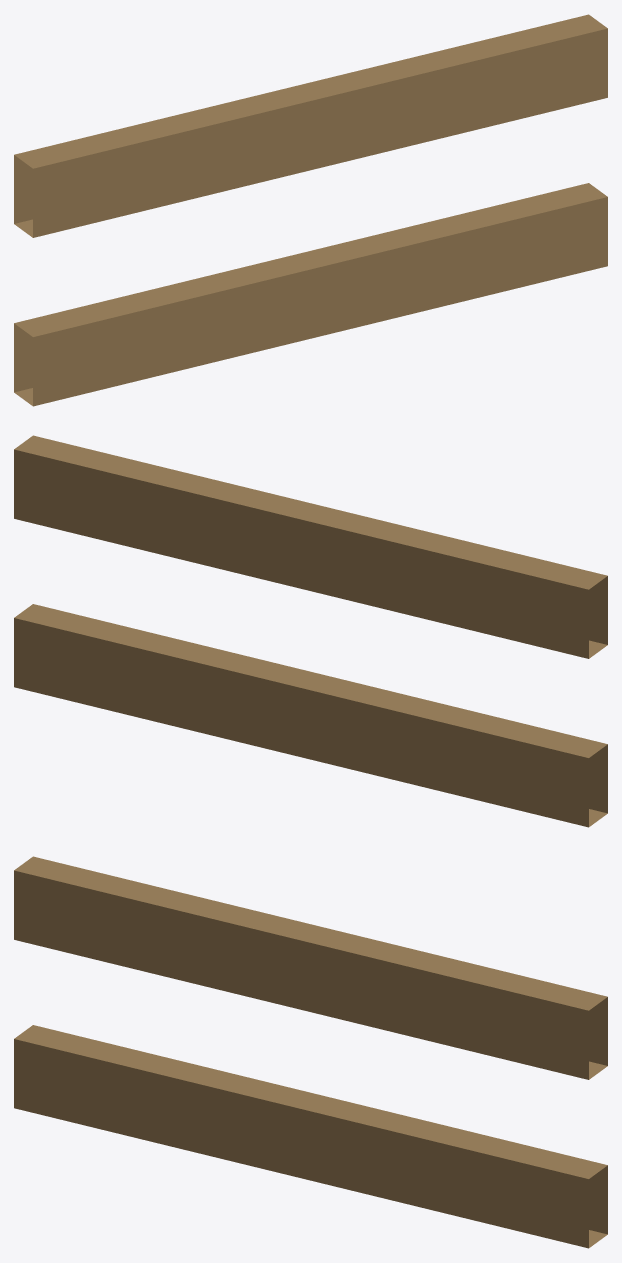
The model's file is fence_beams.fbx.
The picture shows the model from 3 angles, top to bottom: view 1: azimuth 30°, elevation 25°; view 2: azimuth 150°, elevation 25°; view 3: azimuth 330°, elevation 25°; orthographic projection.
Visible parts, largest first — view 1: Cube.005, Cube.006; view 2: Cube.005, Cube.006; view 3: Cube.005, Cube.006.
Boxes of the visible parts, x1,y1,x2,y2 form: Cube.005: (14, 14, 607, 237); Cube.006: (14, 183, 607, 406); Cube.005: (14, 435, 607, 658); Cube.006: (14, 604, 607, 827); Cube.005: (14, 856, 607, 1079); Cube.006: (14, 1025, 607, 1248).
Size of the model in its own units: 0.5 by 0.0288 by 0.1976.
